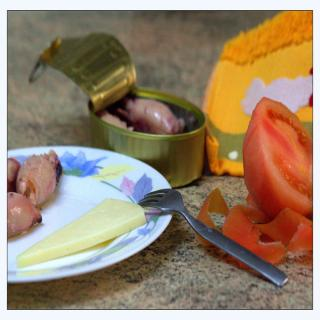tomato: (242, 100, 312, 216)
